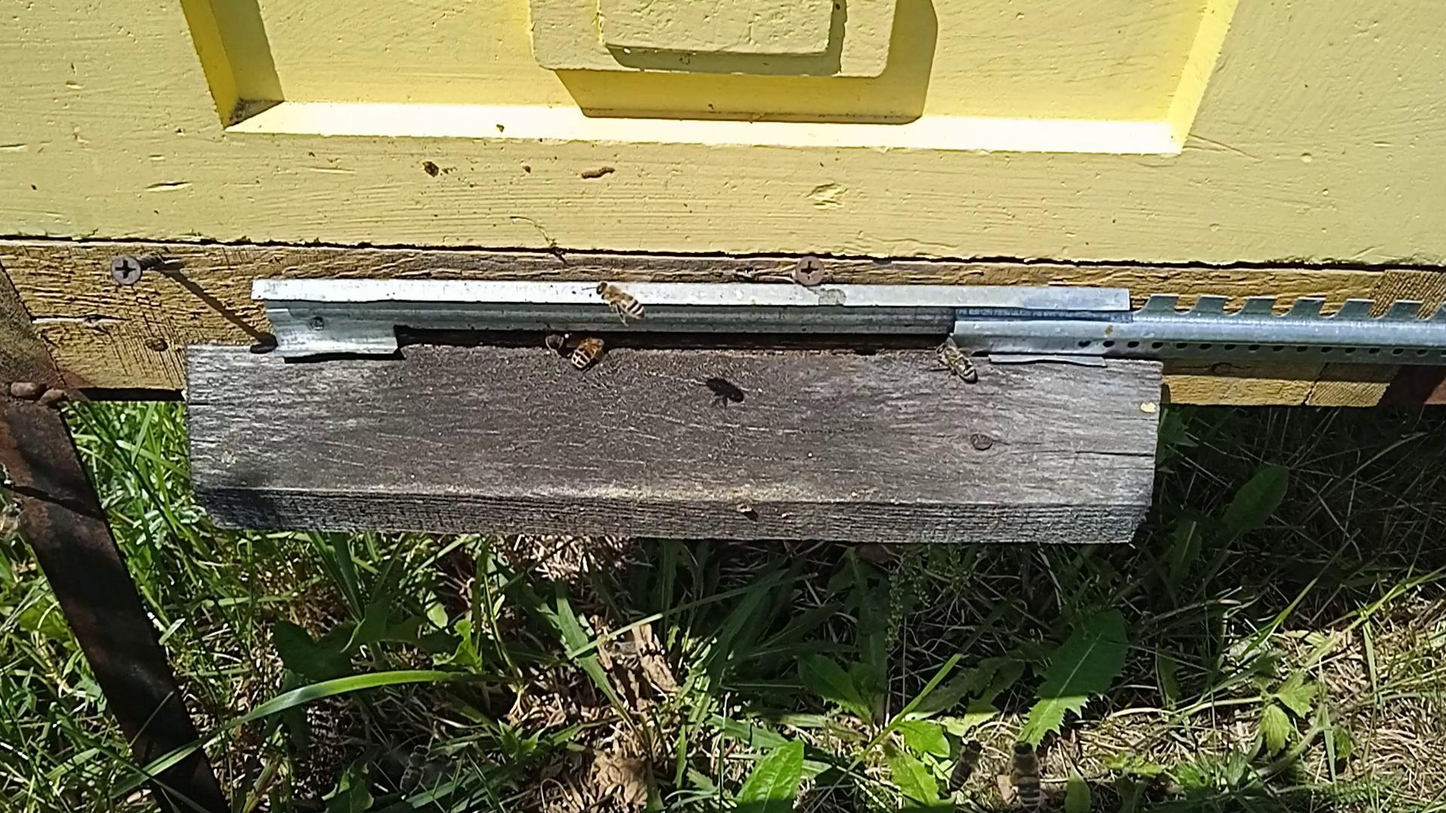worker-bee: (1011, 740, 1044, 812), (947, 738, 984, 793), (595, 281, 647, 319), (935, 340, 979, 383), (567, 333, 610, 370), (399, 746, 432, 793), (604, 639, 639, 670), (1, 501, 25, 544), (541, 330, 571, 352)
